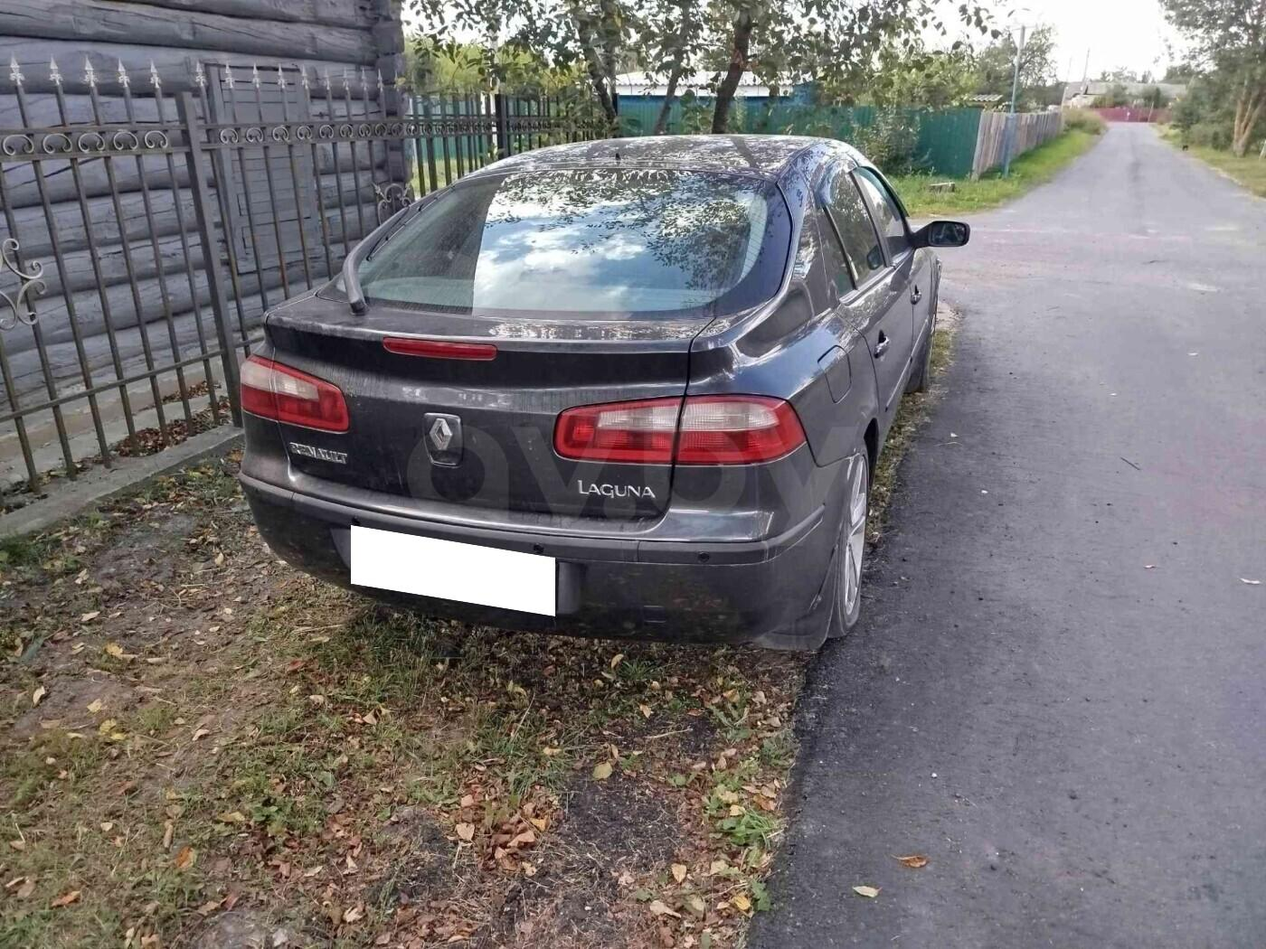Laguna_2001-2005: (239, 135, 969, 648)
